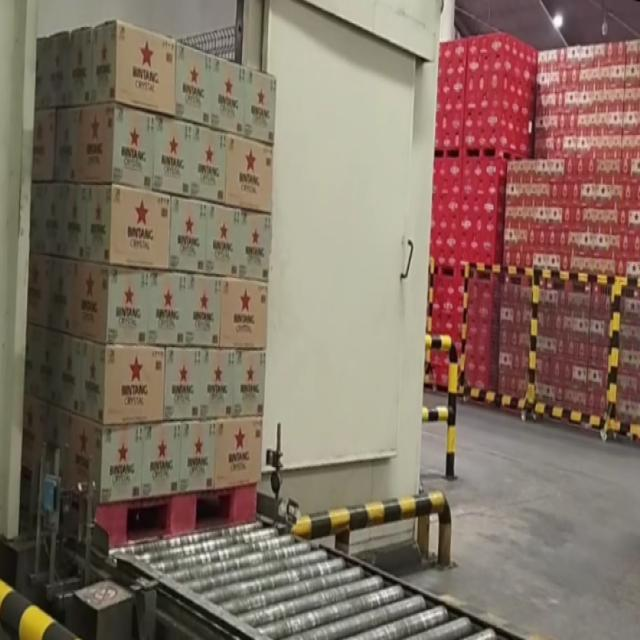pallet: (11, 0, 281, 563)
